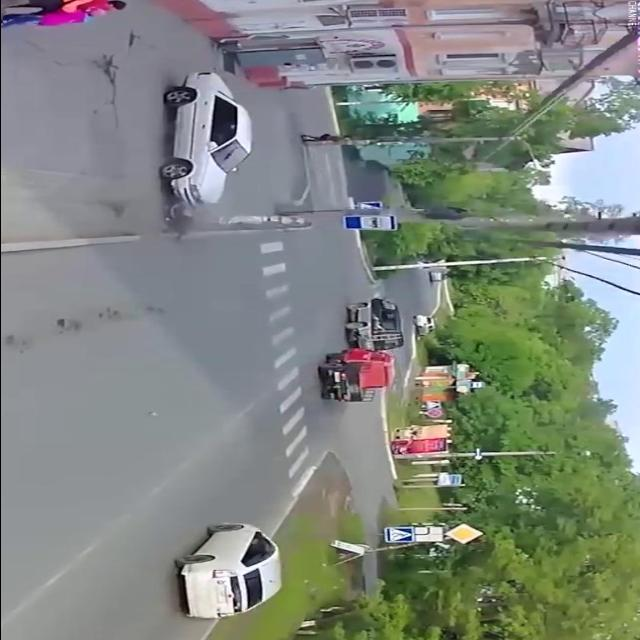accident: (141, 67, 261, 241), (306, 294, 408, 410)
